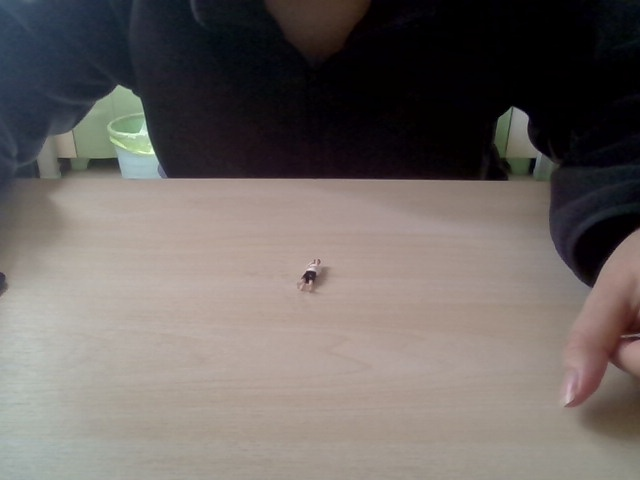fall: (293, 254, 325, 295)
